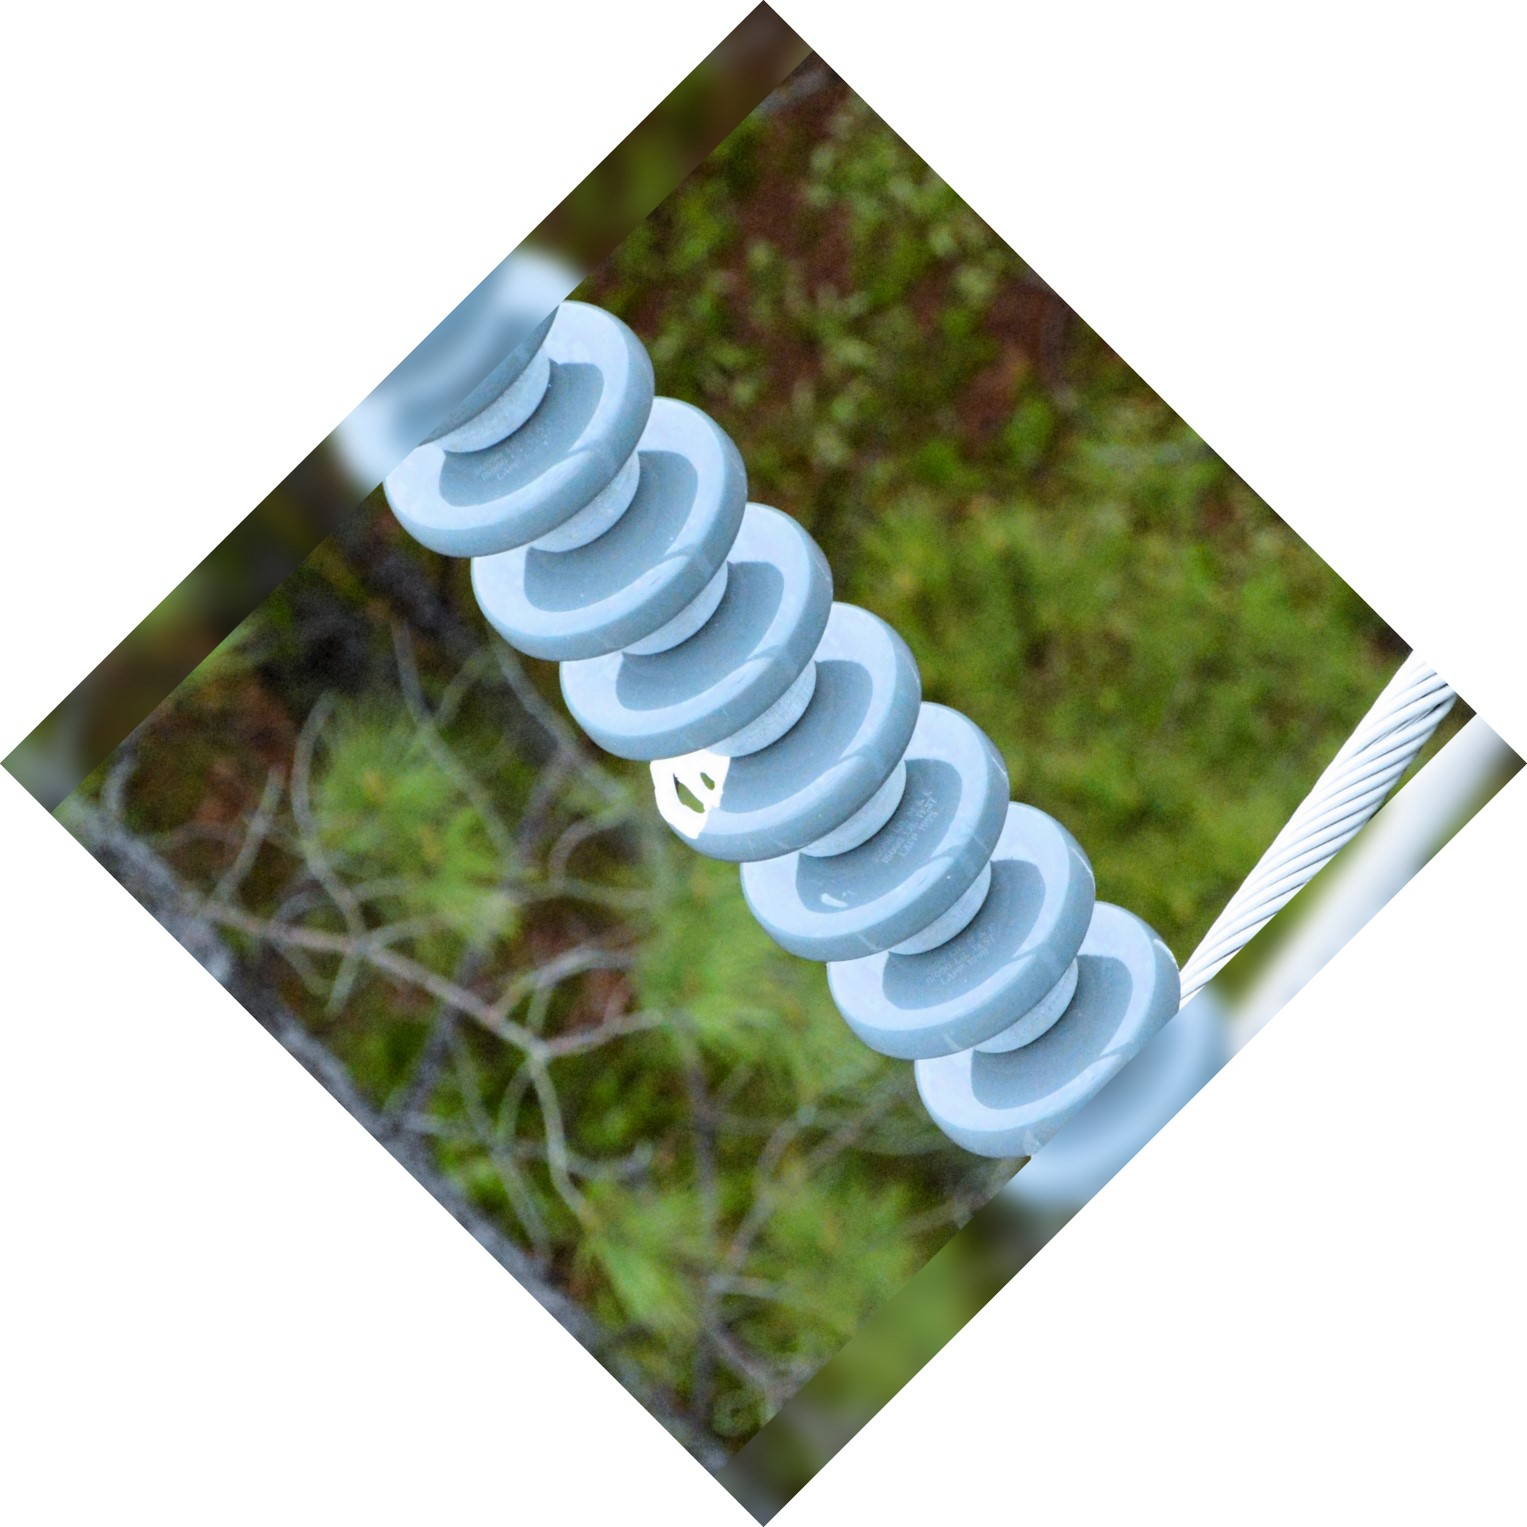insulator breakage: (617, 596, 926, 868)
